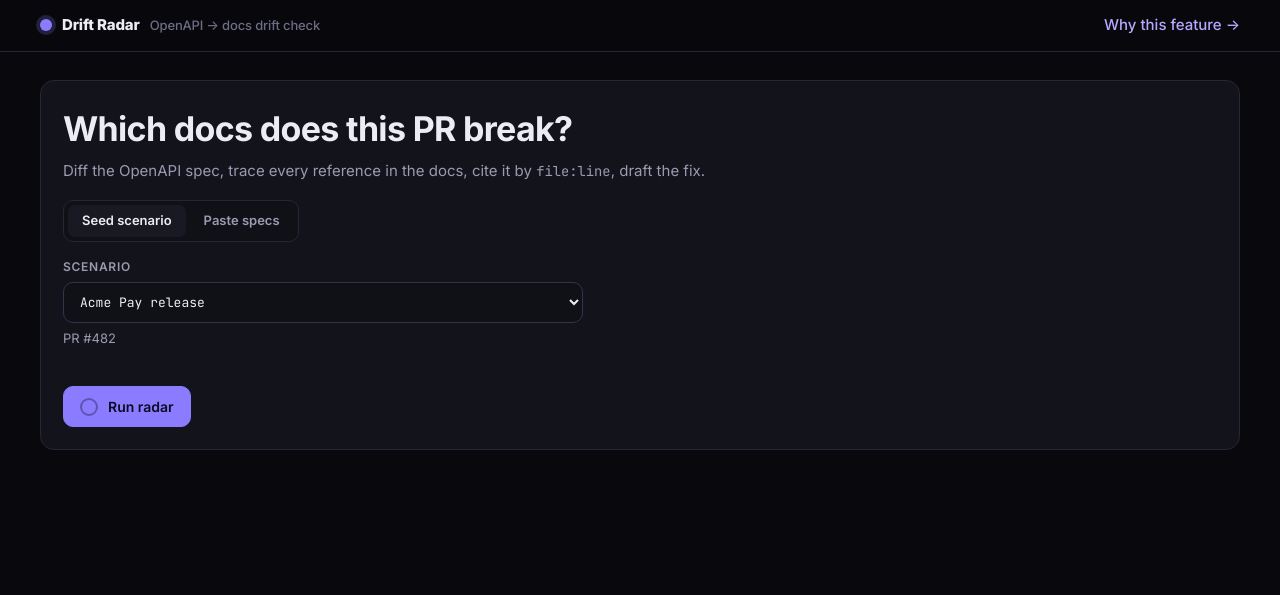
it: Radar page › shows the skip-the-agent state for a no-op PR
The width and height of the screenshot is (1280, 595).
Select "README-only PR" in the dropdown labelled "Scenario": (323, 302) [63, 282, 583, 322]
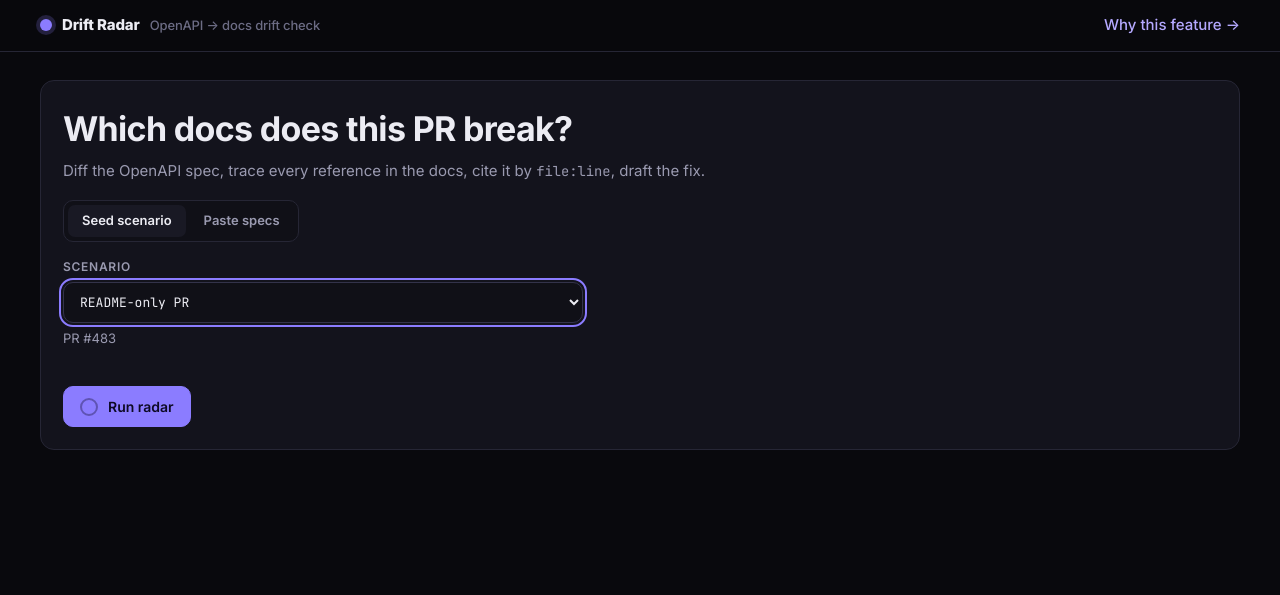
Click the button "Run radar": (127, 406) [63, 386, 191, 427]
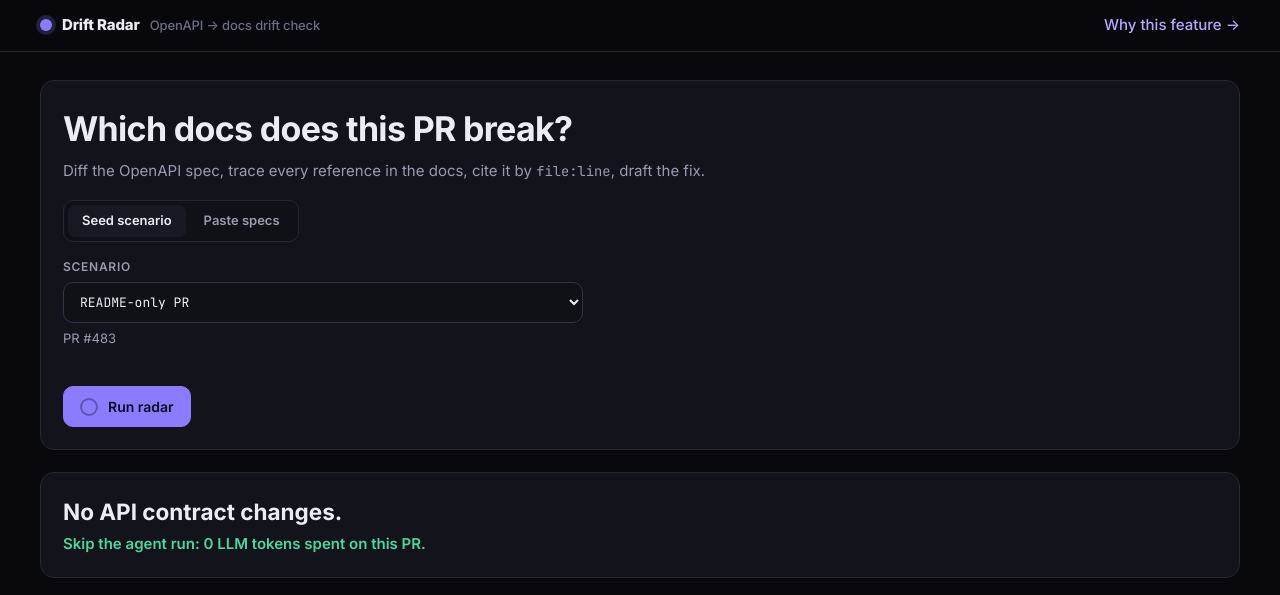
Expected: the text "Skip the agent run: 0 LLM tokens spent on this PR." is shown, [63, 534, 426, 553]
